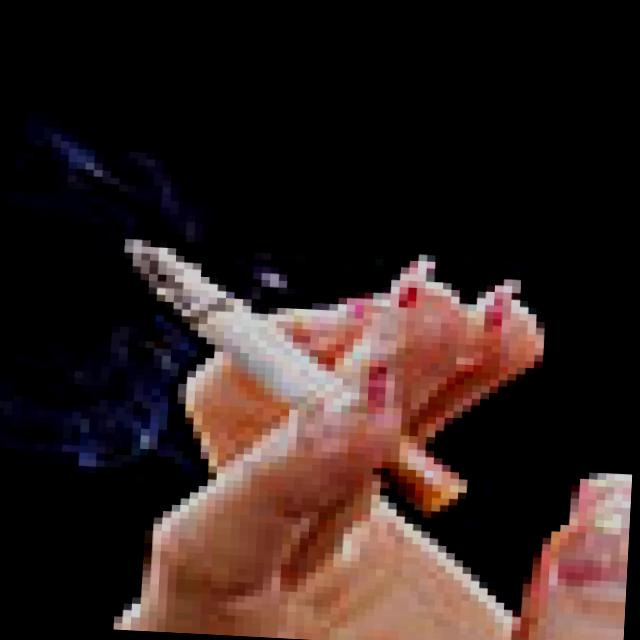smoke: (105, 228, 332, 390)
